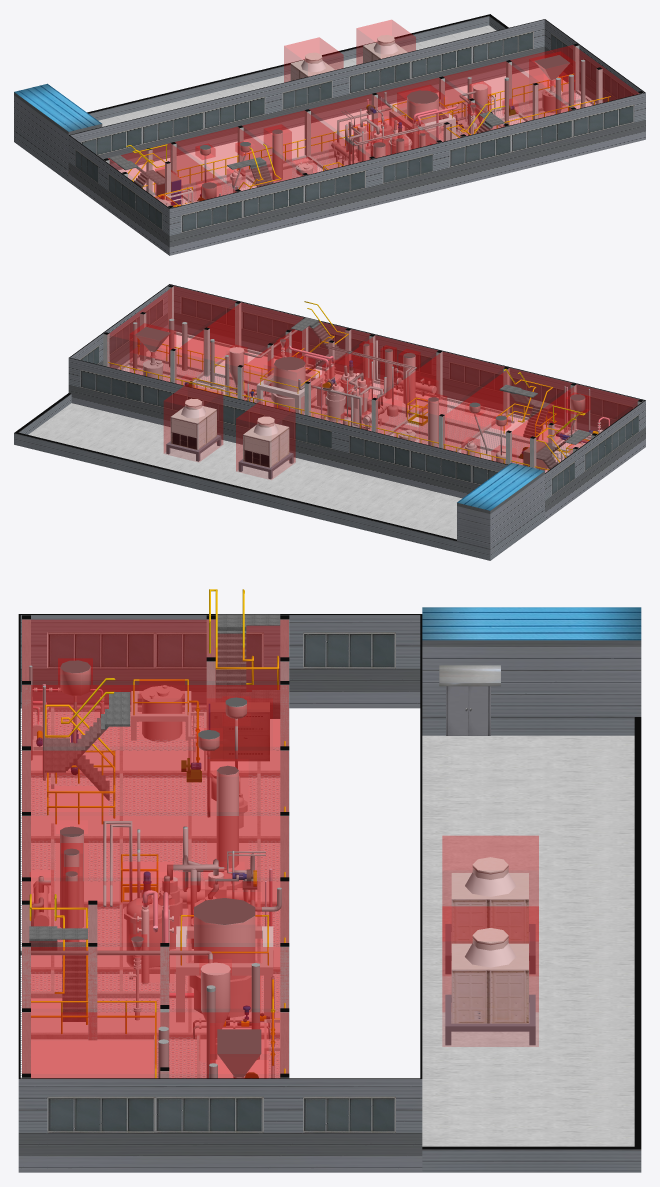
File: NST_3F.glb
3 renders of one model, top to bottom at view 1: azimuth 30°, elevation 25°; view 2: azimuth 150°, elevation 25°; view 3: azimuth 270°, elevation 25°, orthographic. The views are drawn at different scales.
Parts seen in each view (by area): view 1: N-3F (1), Rectangle002, 3F-004, 3F-002, 3F-006, 3F-007, 3F-003, 3F-001, 3F-005, Box041, equipment-3F-ct-501, equipment-3F-ct-502 (+24 smaller); view 2: N-3F (1), Rectangle002, 3F-003, 3F-007, 3F-006, 3F-002, 3F-004, 3F-005, 3F-001, Box041, equipment-3F-ct-502, equipment-3F-ct-501 (+27 smaller); view 3: Rectangle002, N-3F (1), 3F-006, 3F-002, 3F-003, 3F-001, 3F-004, 3F-005, 3F-007, equipment-3F-ct-501, Box041, floor-Rectangle008 (+33 smaller).
Boxes of the visible parts, x1,y1,x2,y2 form: N-3F (1): [68, 19, 645, 255]; Rectangle002: [14, 14, 508, 181]; 3F-004: [309, 94, 437, 169]; 3F-002: [175, 127, 303, 200]; 3F-006: [443, 61, 571, 135]; 3F-007: [510, 45, 638, 119]; 3F-003: [242, 110, 370, 178]; 3F-001: [108, 143, 236, 206]; 3F-005: [376, 78, 504, 141]; Box041: [103, 43, 643, 208]; equipment-3F-ct-501: [356, 20, 415, 64]; equipment-3F-ct-502: [284, 37, 343, 82]; N-3F (1): [68, 284, 645, 520]; Rectangle002: [14, 393, 544, 560]; 3F-003: [376, 352, 504, 449]; 3F-007: [107, 286, 236, 383]; 3F-006: [175, 302, 302, 399]; 3F-002: [443, 368, 571, 464]; 3F-004: [309, 335, 437, 433]; 3F-005: [242, 321, 370, 417]; 3F-001: [510, 384, 638, 472]; Box041: [103, 285, 643, 469]; equipment-3F-ct-502: [236, 401, 295, 479]; equipment-3F-ct-501: [164, 383, 222, 461]; Rectangle002: [422, 607, 641, 1172]; N-3F (1): [18, 614, 490, 1172]; 3F-006: [22, 947, 288, 1077]; 3F-002: [22, 685, 288, 815]; 3F-003: [22, 751, 288, 880]; 3F-001: [22, 620, 288, 750]; 3F-004: [22, 816, 288, 946]; 3F-005: [22, 881, 288, 1011]; 3F-007: [22, 1012, 288, 1077]; equipment-3F-ct-501: [442, 906, 538, 1046]; Box041: [22, 615, 289, 1078]; floor-Rectangle008: [31, 705, 279, 1078].
Bounding box in the file's own units: 42.6 × 5.7 × 24.1.
31 materials, 20 textured.
